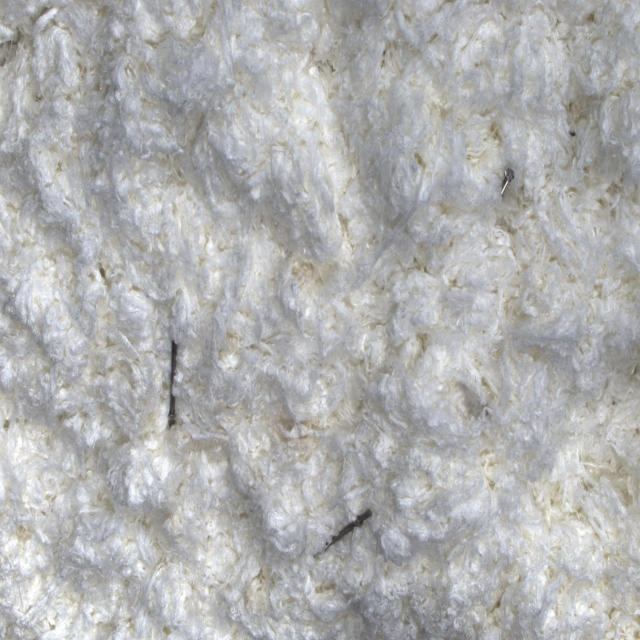dust: (148, 312, 199, 453), (308, 505, 376, 569), (489, 149, 520, 208)
